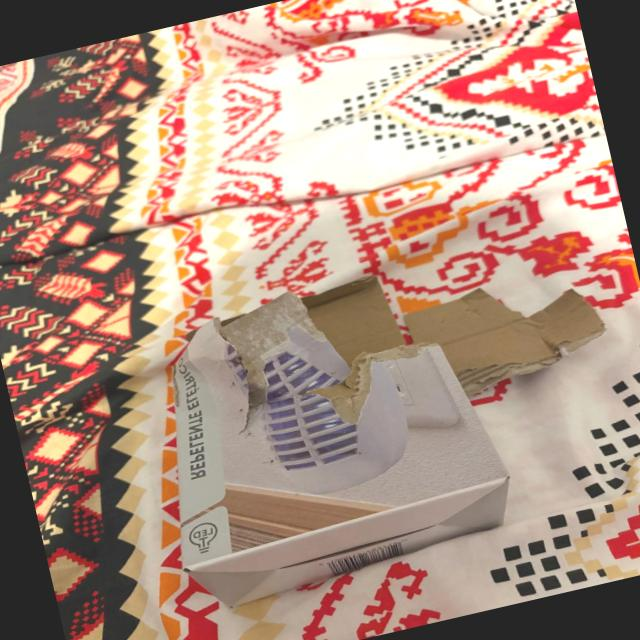damaged_package: (127, 223, 640, 616)
